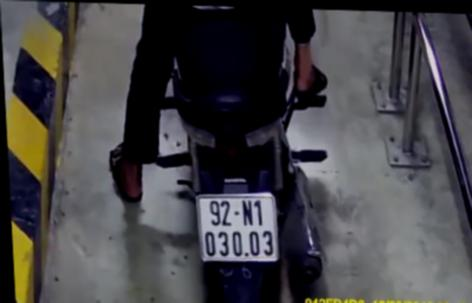License_Plate: (186, 187, 287, 270)
